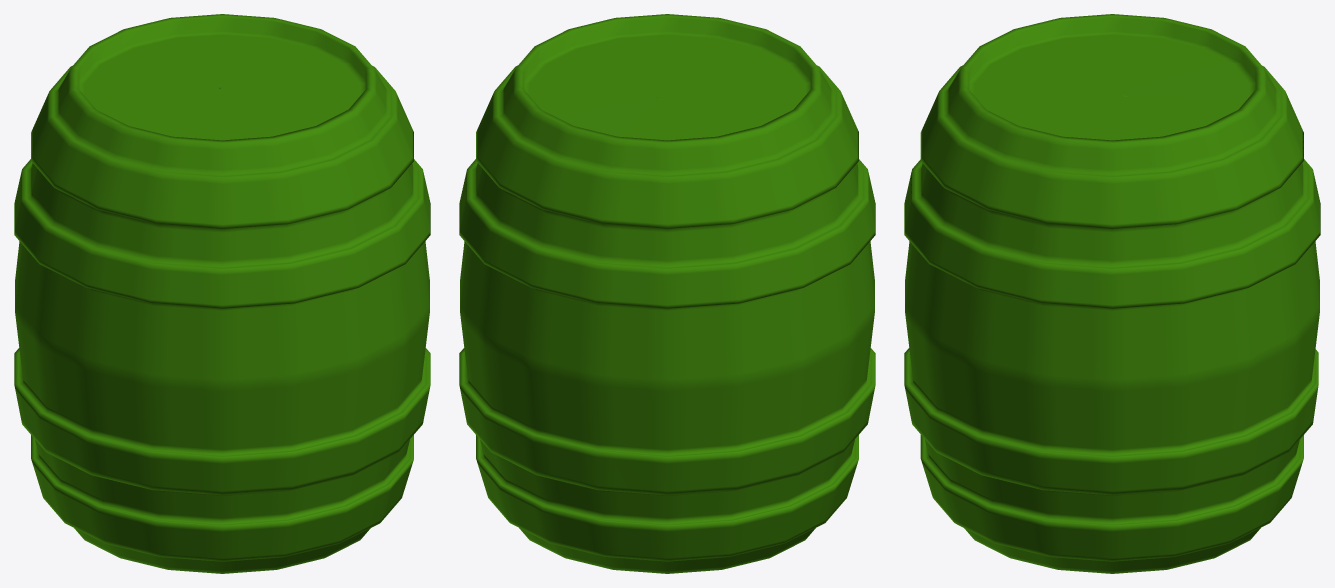
Rendered from barrel.fbx.
The picture shows the model from 3 angles, left to right: view 1: azimuth 30°, elevation 25°; view 2: azimuth 150°, elevation 25°; view 3: azimuth 270°, elevation 25°; orthographic projection.
Parts seen in each view (by area): view 1: Barrel; view 2: Barrel; view 3: Barrel.
Part boxes in pixels (x1,y1,x2,y2): Barrel: (14, 14, 430, 573); Barrel: (459, 14, 875, 573); Barrel: (904, 14, 1320, 573).
Size of the model in its own units: 60.23 by 67.24 by 59.32.
